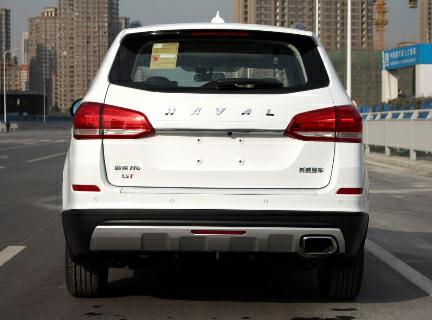哈弗-H6: (58, 8, 373, 300)
